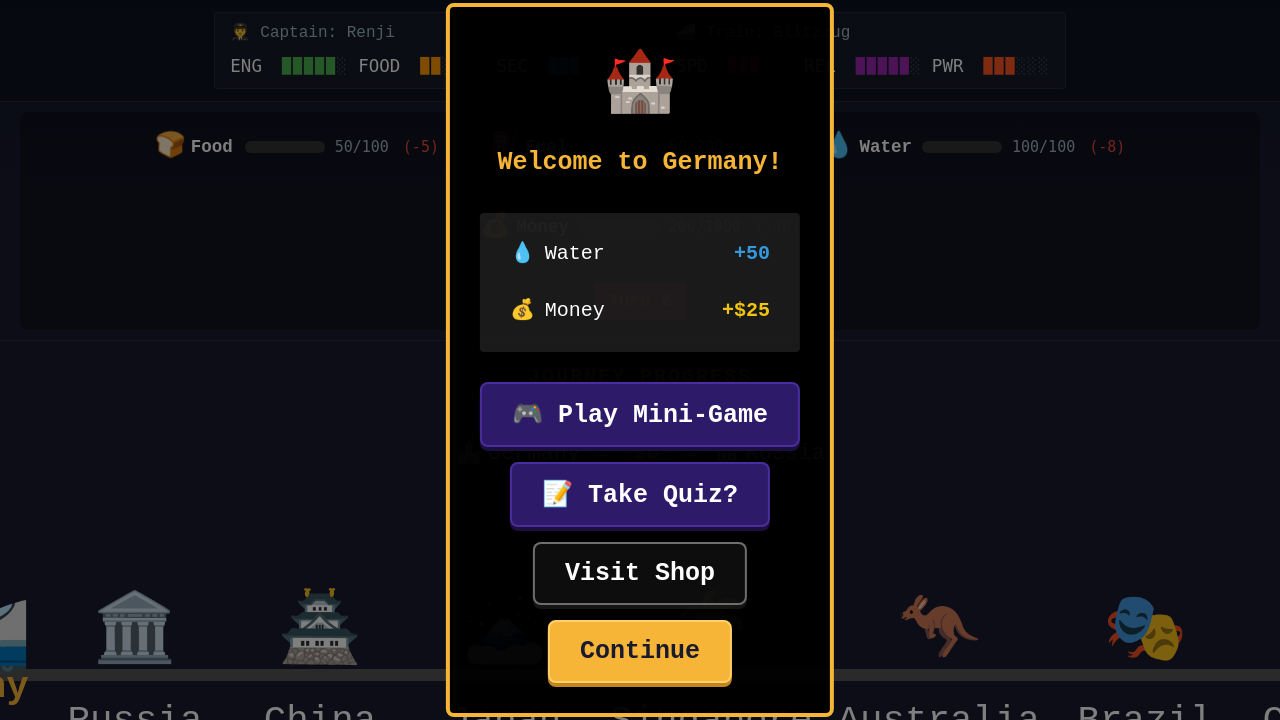
Test: DashboardScreen › mini-game flow › clicking Play Mini-Game from station shows MiniGameModal
// Click Play Mini-Game button
Click the button "🎮 Play Mini-Game".
click(640, 414)  # box [480,382,800,447]
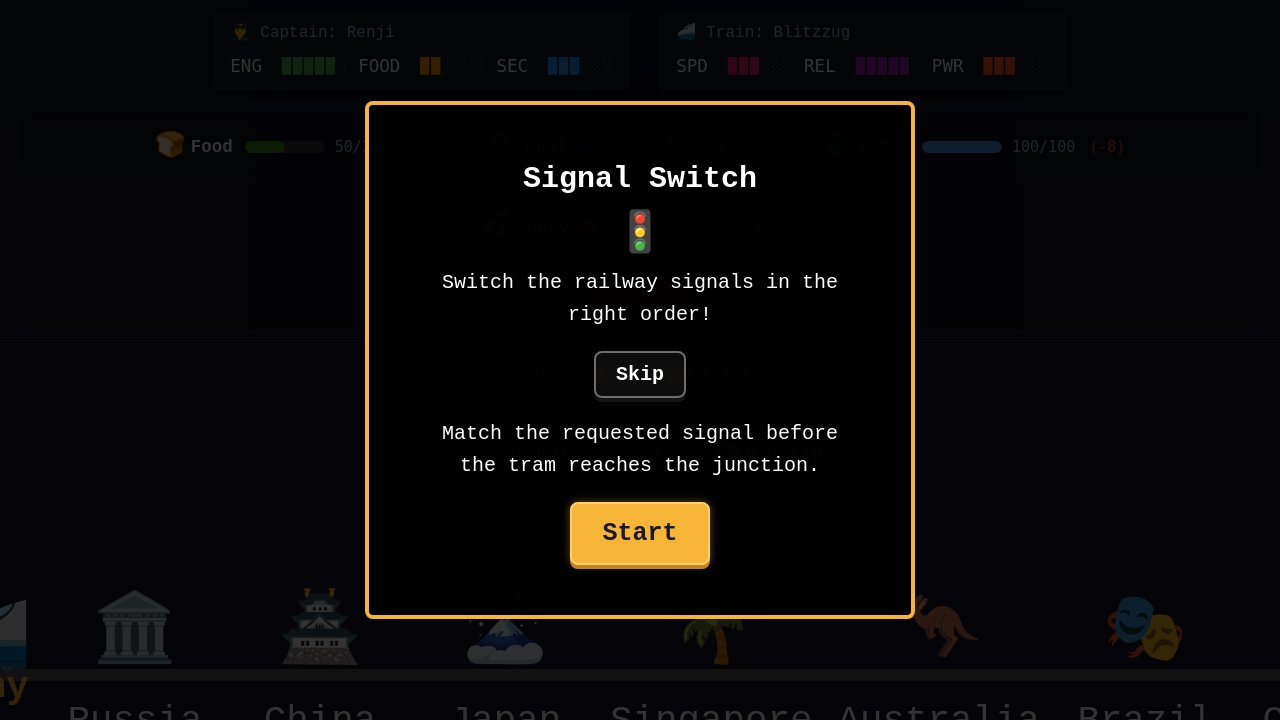
Expected: the element with test id "minigame-modal-overlay" is shown
Expected: the element with test id "station-modal" is gone
